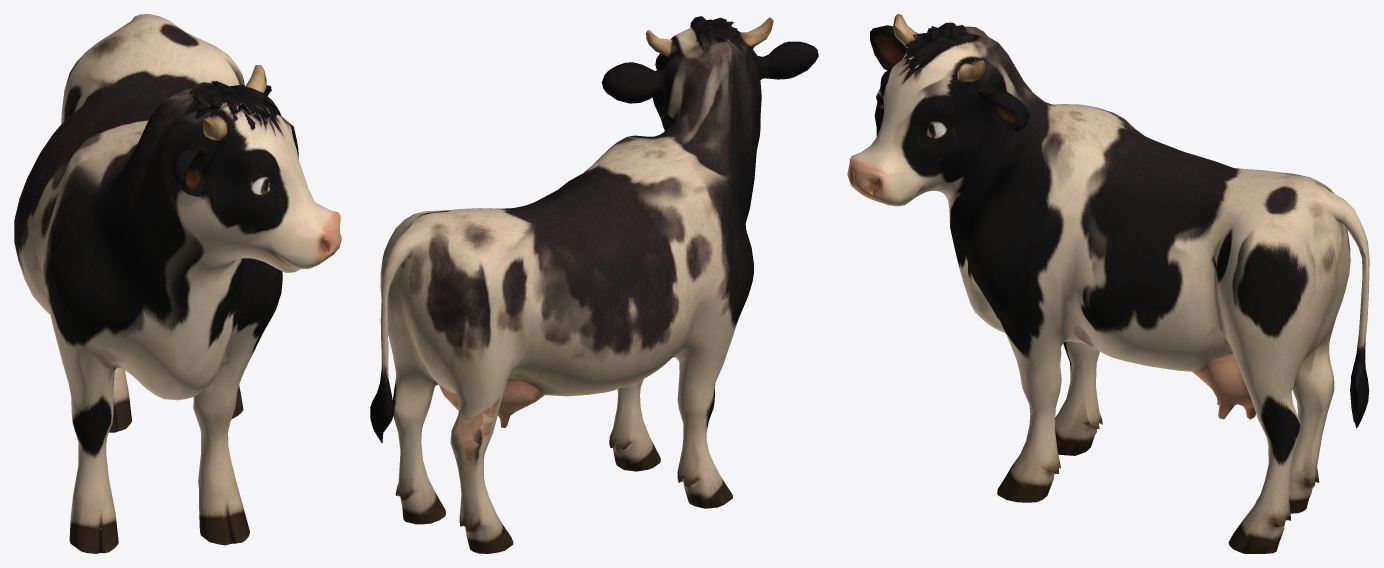
File: cow_spotted_lod0.glb
3 renders of one model, left to right at view 1: azimuth 30°, elevation 25°; view 2: azimuth 150°, elevation 25°; view 3: azimuth 270°, elevation 25°, orthographic. The views are drawn at different scales.
Parts seen in each view (by area): view 1: cow_spotted_lod0; view 2: cow_spotted_lod0; view 3: cow_spotted_lod0.
Boxes of the visible parts, bbox=[...] form: cow_spotted_lod0: bbox=[14, 14, 341, 553]; cow_spotted_lod0: bbox=[370, 16, 818, 553]; cow_spotted_lod0: bbox=[847, 14, 1369, 553].
Size of the model in its own units: 0.8777 by 1.39 by 1.48.
Materials: 1 (1 with a texture image).
